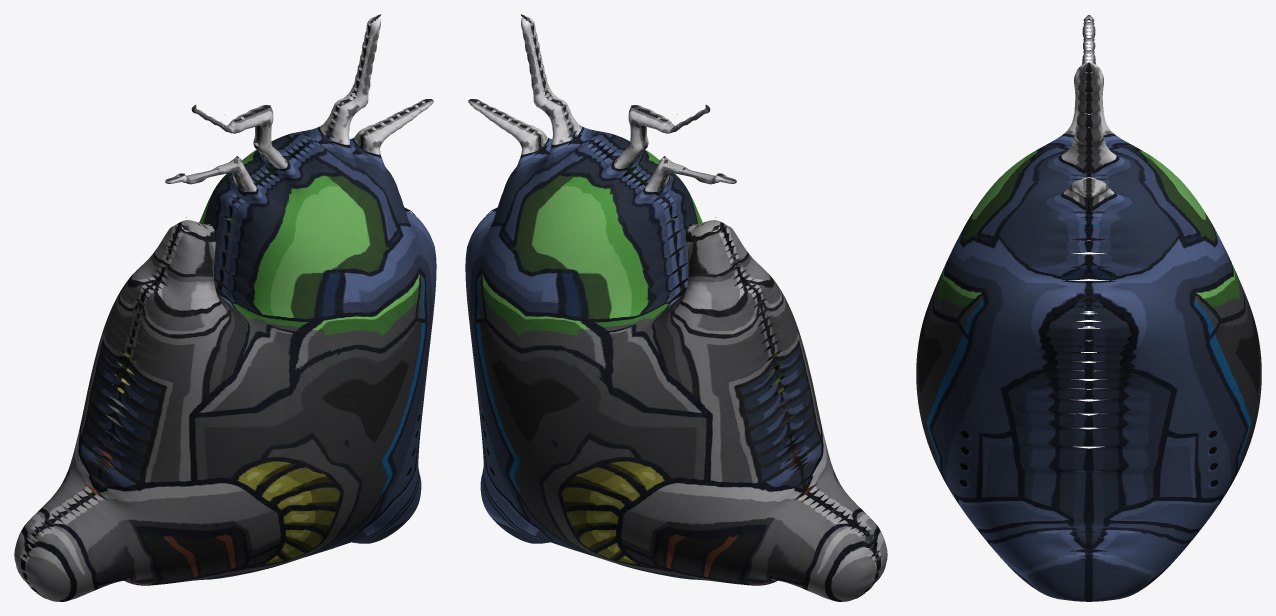
Rendered from antenna_actuator.glb.
3 views of the same model, side by side, from view 1: azimuth 30°, elevation 25°; view 2: azimuth 150°, elevation 25°; view 3: azimuth 270°, elevation 25° (orthographic). The views are drawn at different scales.
Parts seen in each view (by area): view 1: antenna_actuator; view 2: antenna_actuator; view 3: antenna_actuator.
Part boxes in pixels (x1=…): antenna_actuator: x1=14, y1=14, x2=436, y2=601; antenna_actuator: x1=465, y1=14, x2=887, y2=601; antenna_actuator: x1=916, y1=15, x2=1261, y2=601.
Size of the model in its own units: 0.9861 by 1.18 by 0.6712.
1 material, 1 textured.
